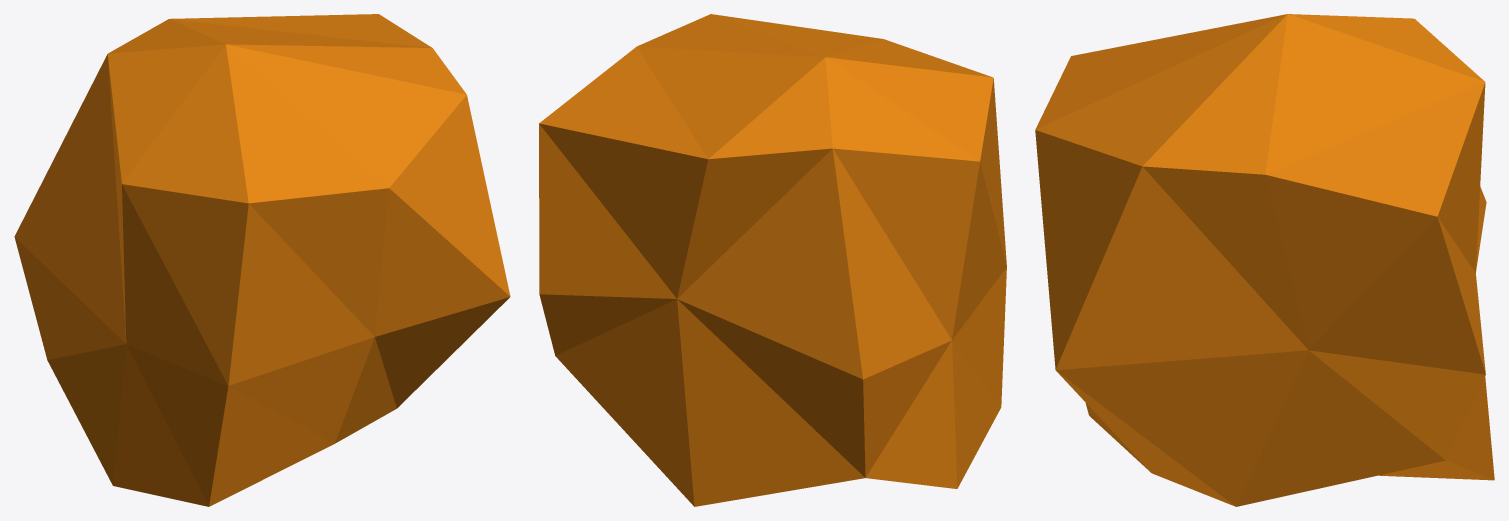
Rendered from Stone.fbx.
3 views of the same model, side by side, from view 1: azimuth 30°, elevation 25°; view 2: azimuth 150°, elevation 25°; view 3: azimuth 270°, elevation 25° (orthographic). The views are drawn at different scales.
Visible parts, largest first — view 1: Cube; view 2: Cube; view 3: Cube.
Part boxes in pixels (bbox=[...]): Cube: bbox=[14, 14, 510, 506]; Cube: bbox=[539, 14, 1006, 506]; Cube: bbox=[1035, 14, 1494, 506].
Bounding box in the file's own units: 208 × 231 × 208.
